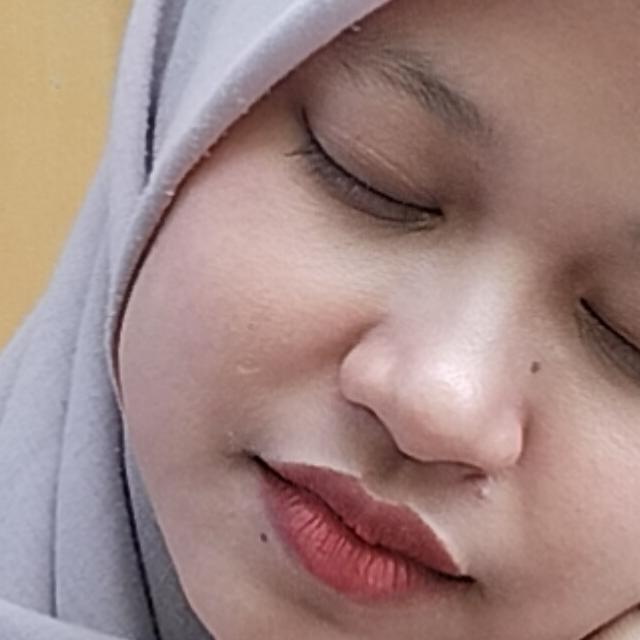tidur: (46, 248, 640, 640)
